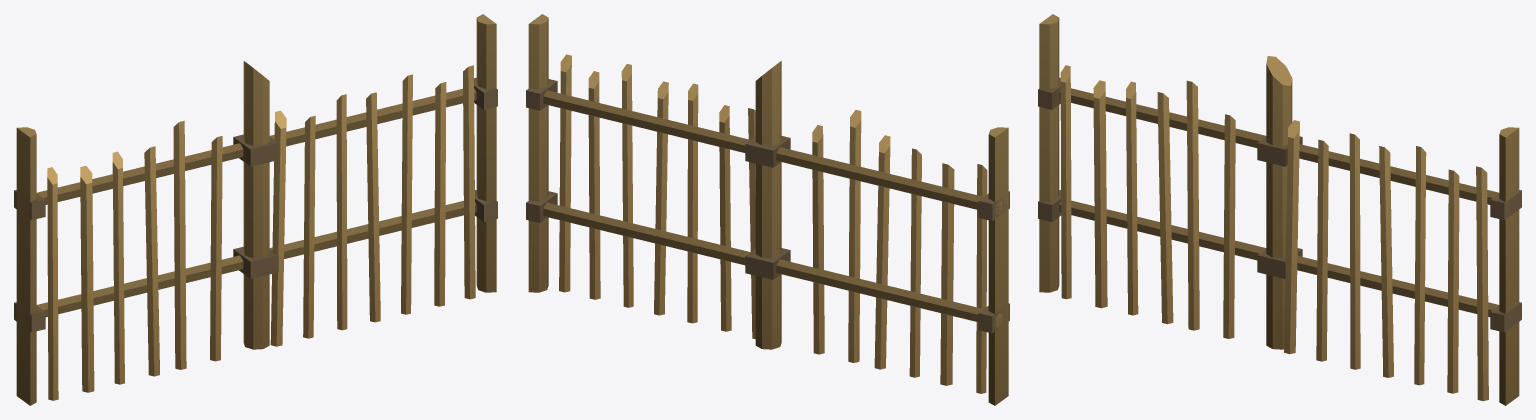
Rendered from pagar_bambu.glb.
3 views of the same model, side by side, from view 1: azimuth 30°, elevation 25°; view 2: azimuth 150°, elevation 25°; view 3: azimuth 330°, elevation 25° (orthographic).
Visible parts, largest first — view 1: pagar_bambu_mesh; view 2: pagar_bambu_mesh; view 3: pagar_bambu_mesh.
Boxes of the visible parts, bbox=[...] form: pagar_bambu_mesh: bbox=[14, 14, 497, 405]; pagar_bambu_mesh: bbox=[526, 14, 1009, 405]; pagar_bambu_mesh: bbox=[1038, 14, 1521, 405].
Size of the model in its own units: 2 by 1.17 by 0.13.
